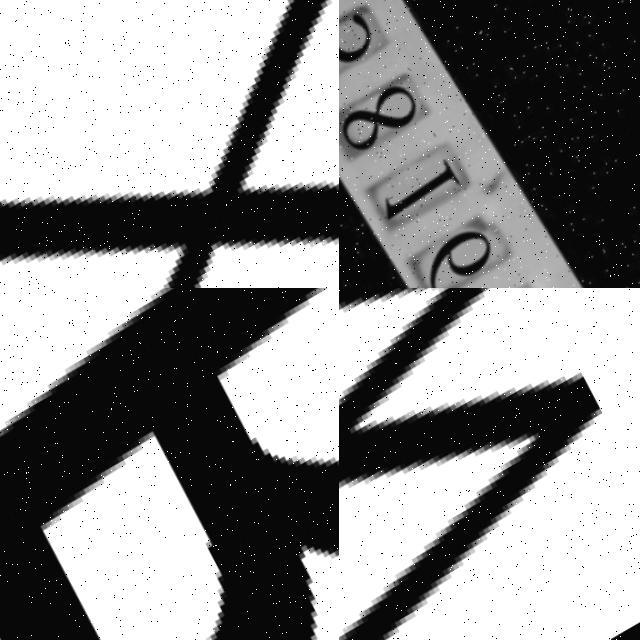1: (358, 135, 477, 242)
3: (339, 0, 390, 96)
6: (397, 203, 518, 288)
8: (339, 60, 439, 169)
R: (0, 288, 339, 640)
W: (339, 288, 640, 640)
X: (0, 0, 339, 288)
